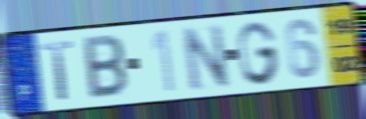1: (151, 27, 177, 96)
6: (284, 17, 324, 81)
B: (81, 33, 129, 101)
G: (235, 19, 281, 87)
N: (179, 21, 233, 93)
T: (39, 38, 76, 103)
